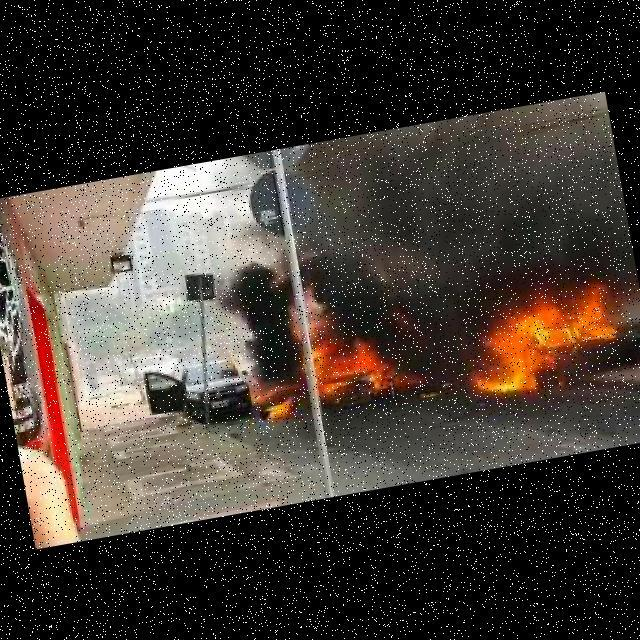Fire: (454, 281, 630, 400), (210, 242, 318, 400), (298, 292, 391, 400), (265, 395, 295, 423)
